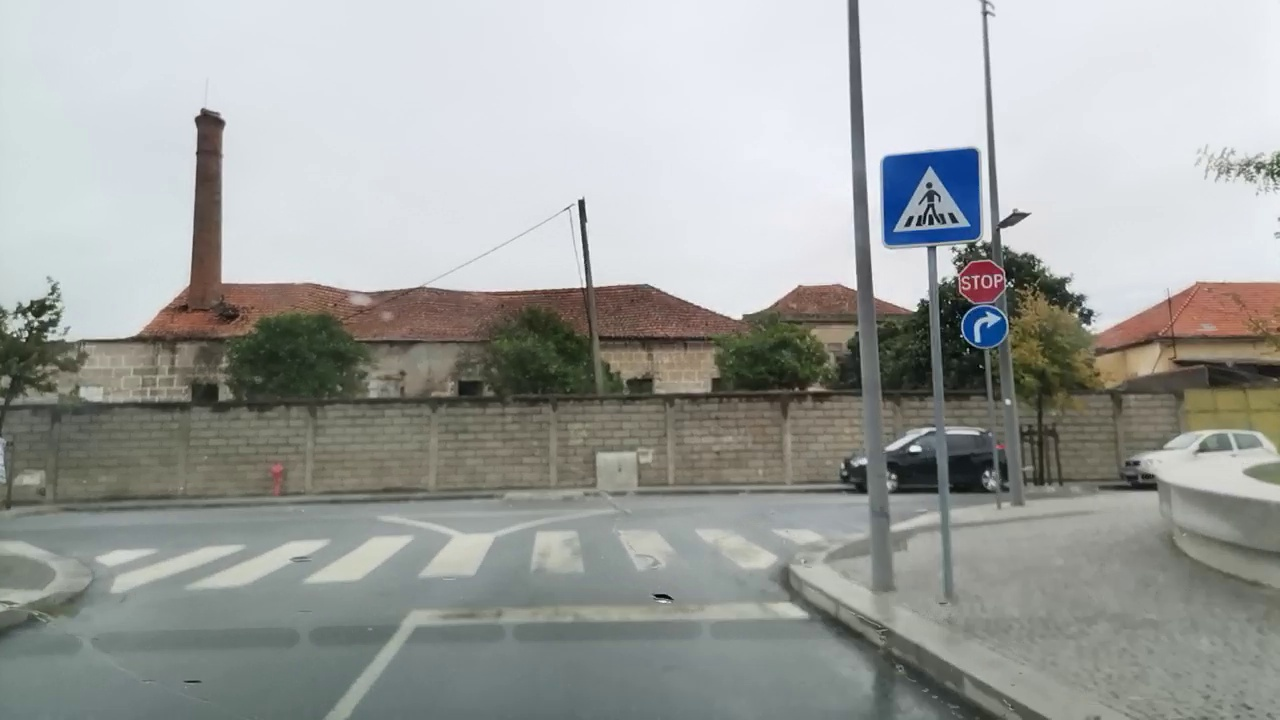Stairs: (98, 519, 829, 594)
